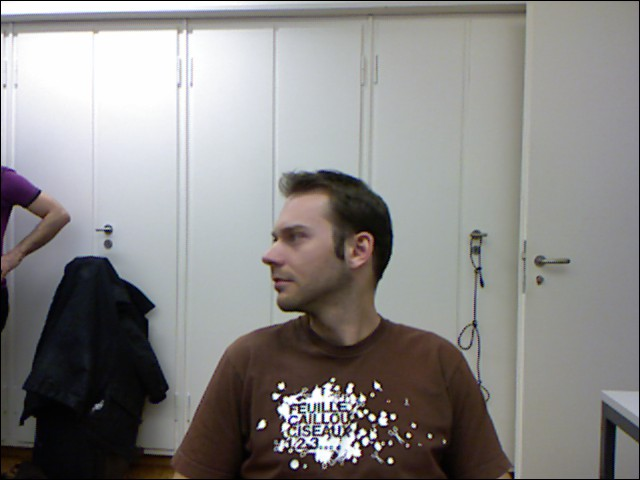deflection: (215, 169, 466, 434)
